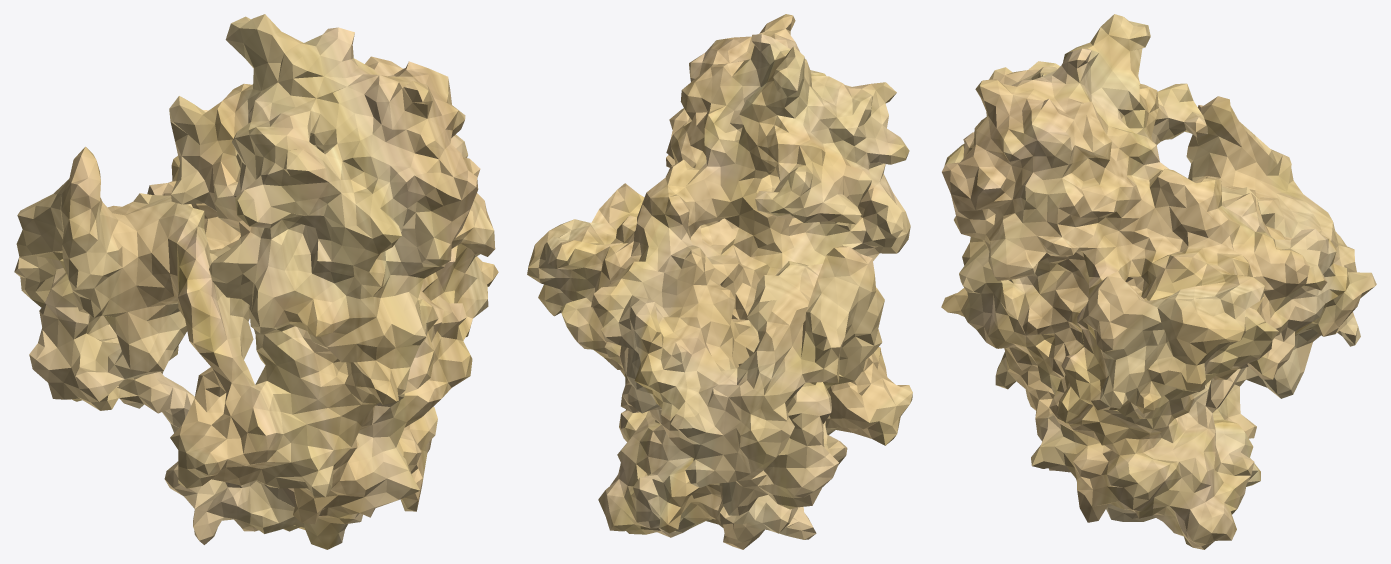
The model's file is 1kln1.obj.
3 views of the same model, side by side, from view 1: azimuth 30°, elevation 25°; view 2: azimuth 150°, elevation 25°; view 3: azimuth 270°, elevation 25° (orthographic). The views are drawn at different scales.
Parts seen in each view (by area): view 1: Object.1; view 2: Object.1; view 3: Object.1.
Boxes of the visible parts, <box> form: Object.1: <box>14,14,498,549</box>; Object.1: <box>527,14,912,549</box>; Object.1: <box>941,14,1376,549</box>.
Size of the model in its own units: 675 by 892 by 731.
2 materials, 1 textured.
